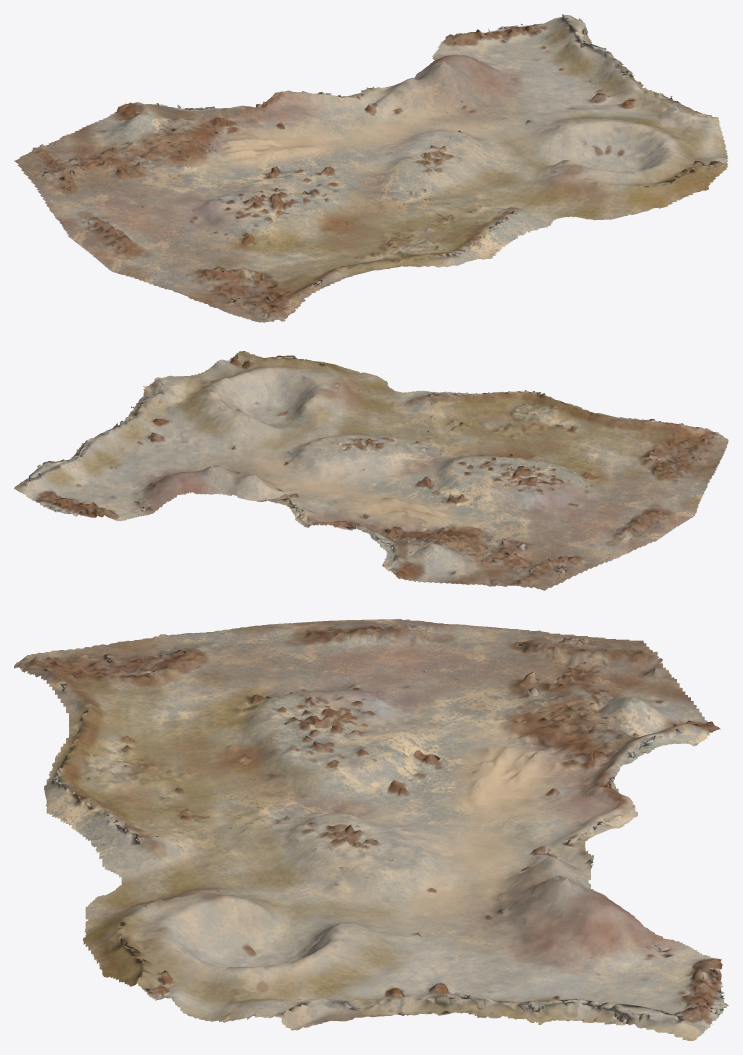
Rendered from ERC_Groundv5_small.glb.
3 renders of one model, top to bottom at view 1: azimuth 30°, elevation 25°; view 2: azimuth 150°, elevation 25°; view 3: azimuth 270°, elevation 25°, orthographic. The views are drawn at different scales.
Visible parts, largest first — view 1: ERC; view 2: ERC; view 3: ERC.
Boxes of the visible parts, <box> form: ERC: <box>14,14,728,322</box>; ERC: <box>14,351,728,590</box>; ERC: <box>14,619,728,1040</box>.
Bounding box in the file's own units: 35.75 × 2.22 × 26.49.
1 material, 1 textured.
